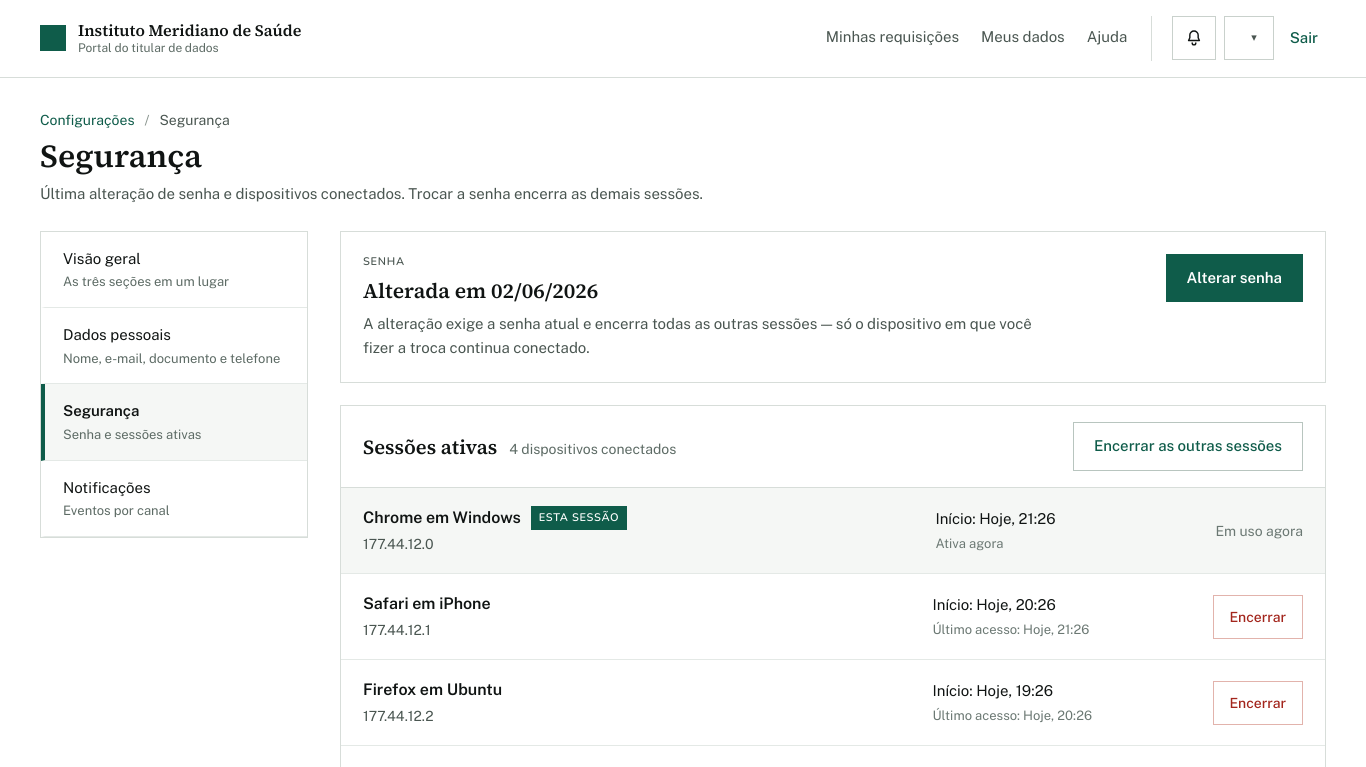
Test: SecuritySettingsView › não troca a senha sem a atual, com senha fraca ou com a repetição diferente
The image size is (1366, 767).
Step 1. Click the button "Alterar senha" → (1234, 278), box [1166,254,1303,302]
(page scrolled)
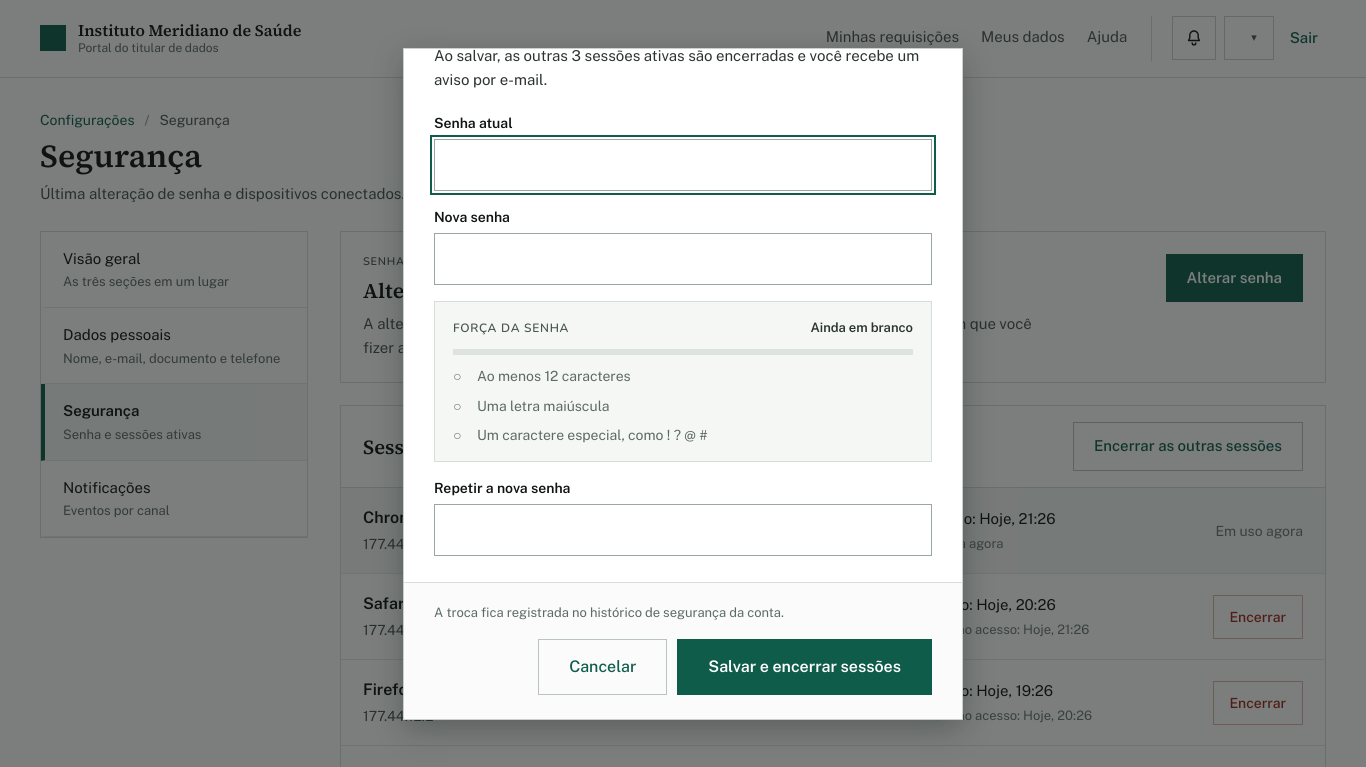
Step 2. Click the button "Salvar e encerrar sessões" → (805, 666), box [677,638,932,694]
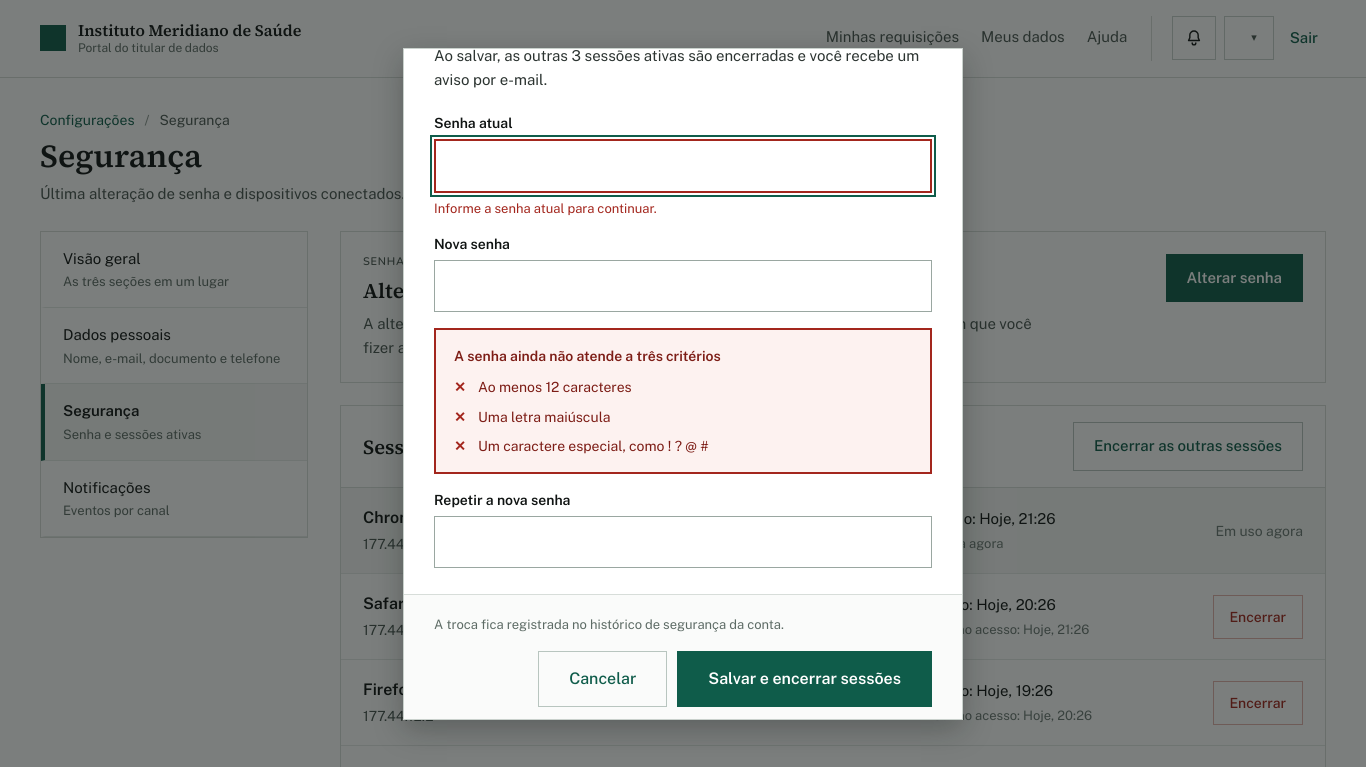
Result: the dialog shows "Informe a senha atual para continuar." at [434,201,657,216]
Result: the dialog shows "A senha ainda não atende" at [454,348,721,364]
Step 3. Type "SenhaSegura!123" into the password field labelled "Senha atual" → (683, 166), box [434,139,932,193]
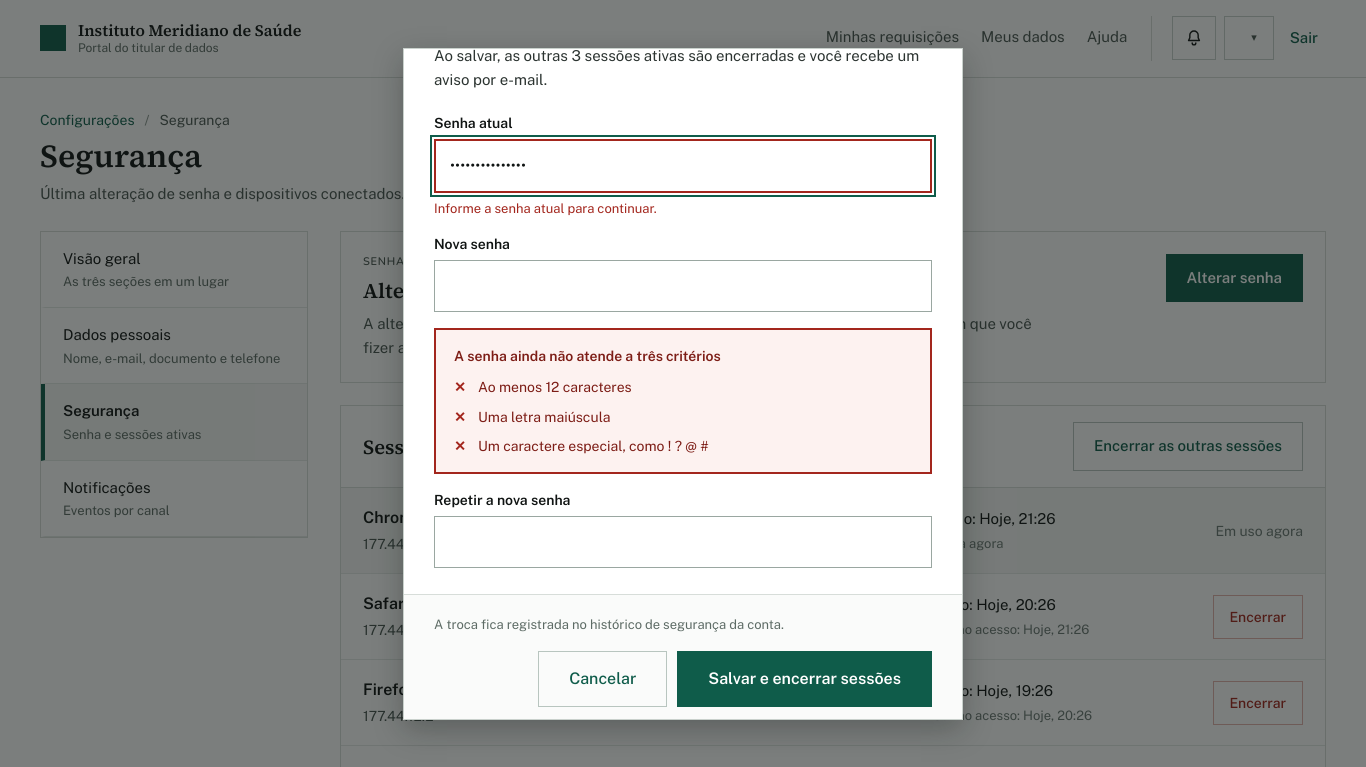
Step 4. Type "OutraSenhaForte#2026" into the password field labelled "Nova senha" → (683, 286), box [434,260,932,312]
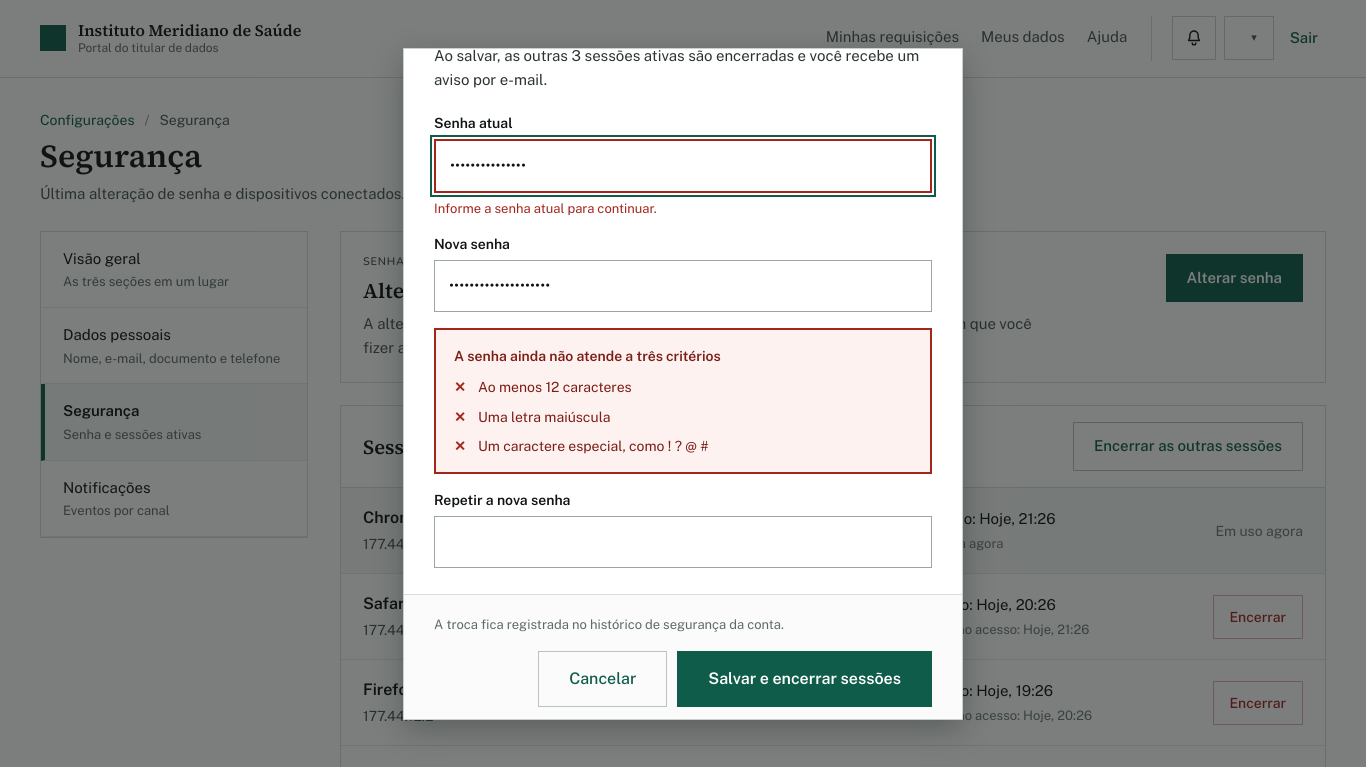
Step 5. Type "OutraSenhaForte#2025" into the password field labelled "Repetir a nova senha" → (683, 542), box [434,516,932,568]
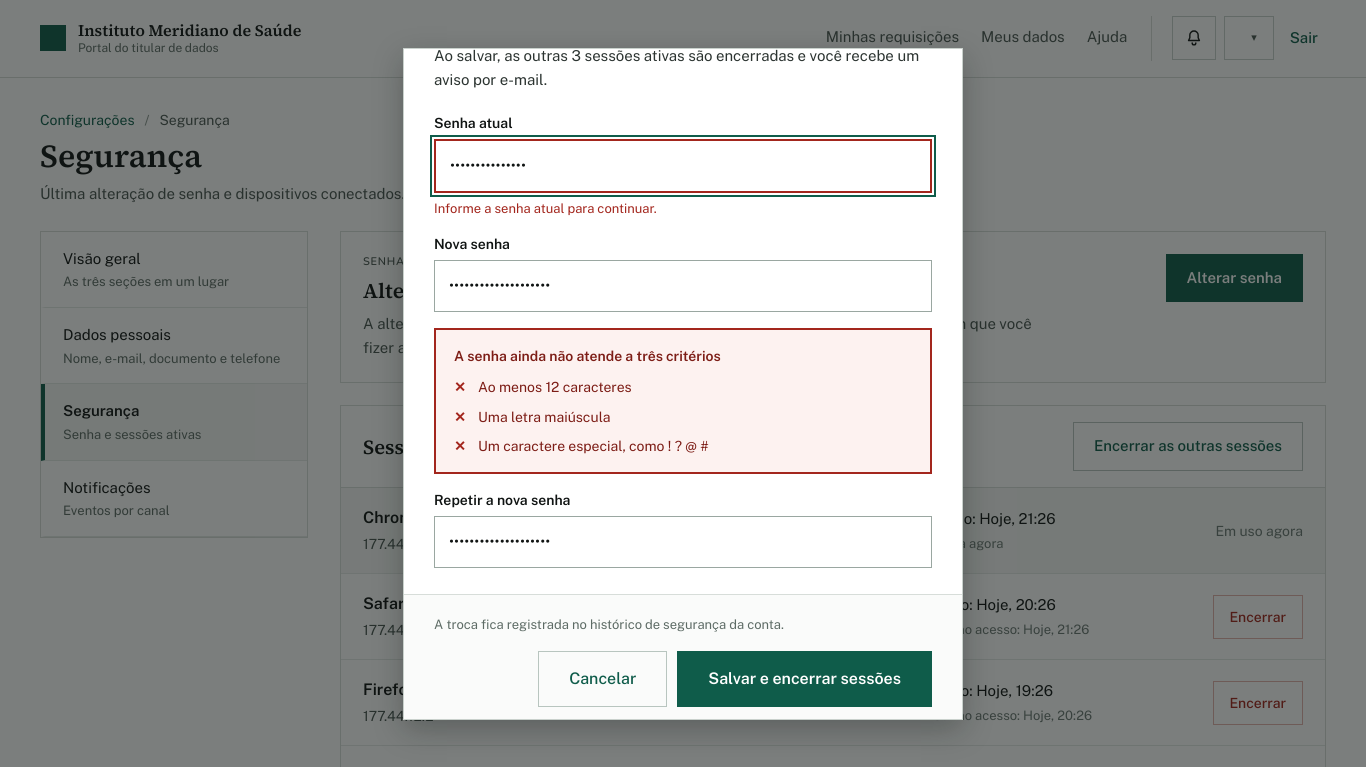
Step 6. Click the button "Salvar e encerrar sessões" → (805, 678), box [677,650,932,706]
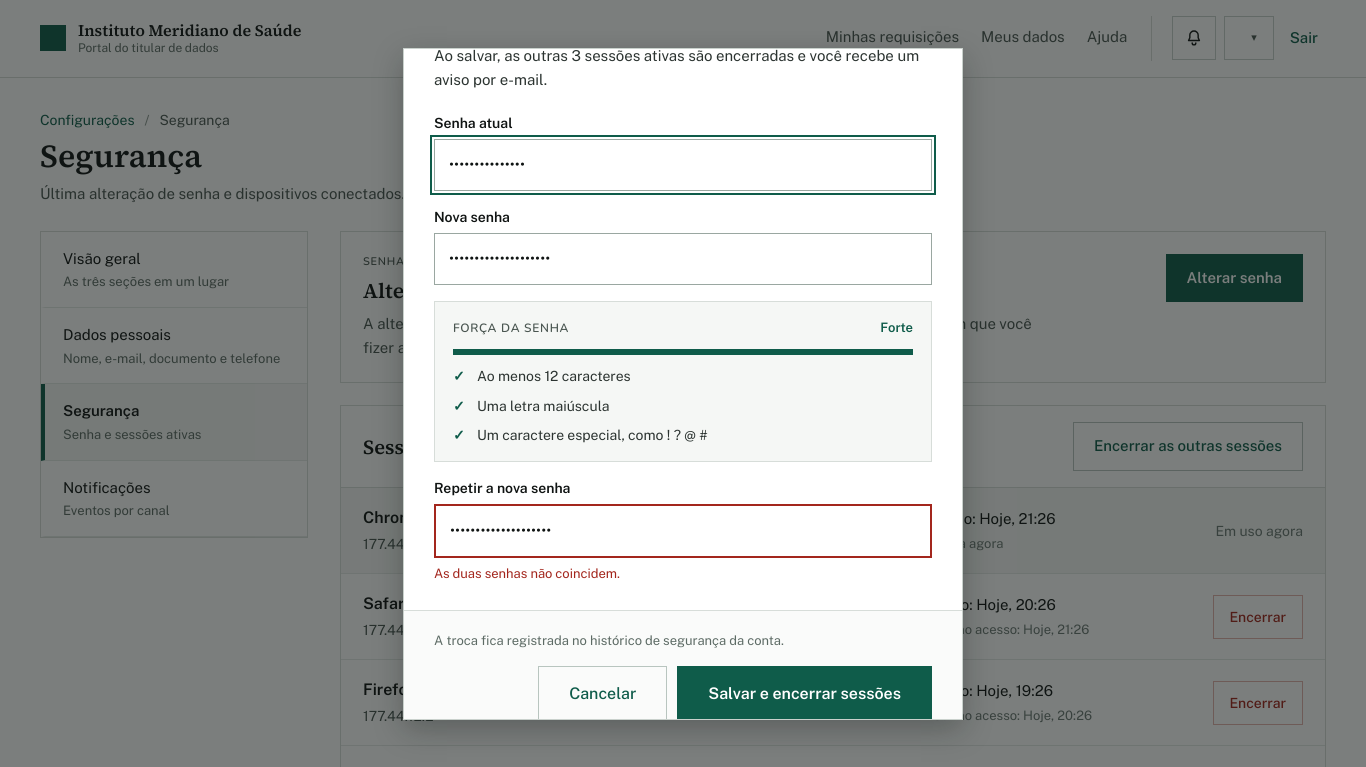
Result: the dialog shows "As duas senhas não coincidem." at [434,566,620,581]
